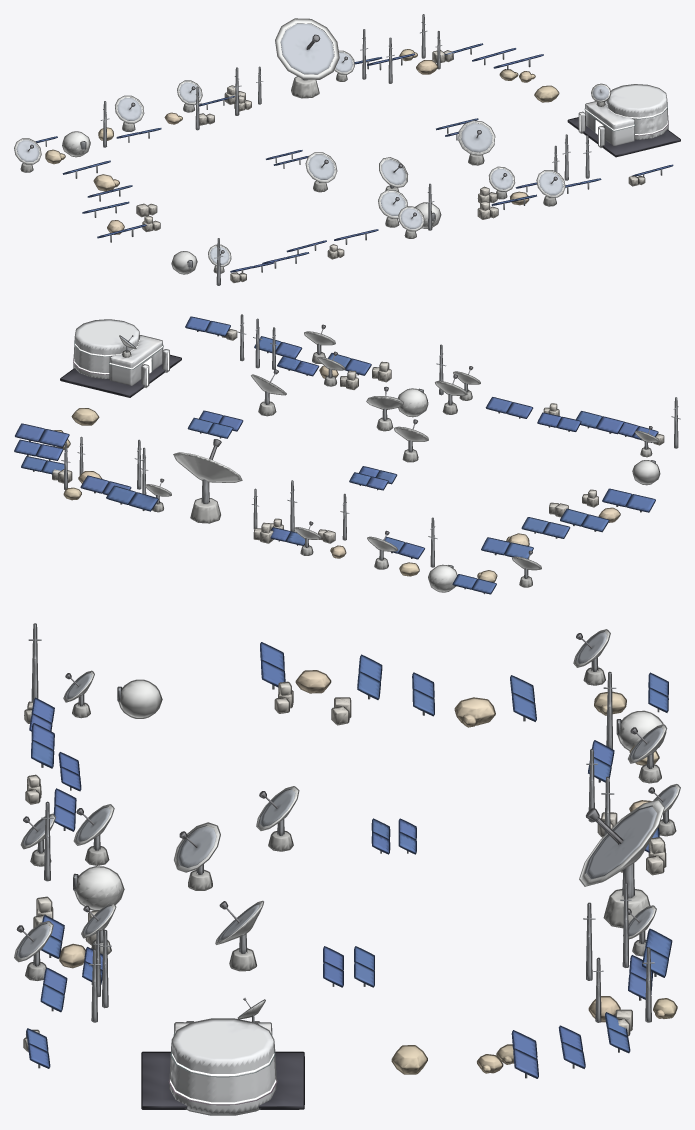
Rendered from dish_array.glb.
The picture shows the model from 3 angles, top to bottom: view 1: azimuth 30°, elevation 25°; view 2: azimuth 150°, elevation 25°; view 3: azimuth 270°, elevation 25°; orthographic projection. The views are drawn at different scales.
Parts seen in each view (by area): view 1: Baked_matte, Baked_satin, Baked_matte_Outline, Baked_gloss_Outline, Baked_metal, Baked_metal_Outline, Baked_gloss, Baked_satin_Outline; view 2: Baked_matte, Baked_gloss, Baked_matte_Outline, Baked_gloss_Outline, Baked_metal, Baked_metal_Outline, Baked_satin; view 3: Baked_matte, Baked_gloss, Baked_satin, Baked_matte_Outline, Baked_gloss_Outline, Baked_metal, Baked_metal_Outline, Baked_satin_Outline.
Boxes of the visible parts, x1=… form: Baked_matte: x1=15, y1=19, x2=667, y2=282; Baked_satin: x1=16, y1=23, x2=680, y2=264; Baked_matte_Outline: x1=14, y1=18, x2=668, y2=282; Baked_gloss_Outline: x1=35, y1=43, x2=673, y2=272; Baked_metal: x1=45, y1=15, x2=662, y2=285; Baked_metal_Outline: x1=103, y1=14, x2=589, y2=285; Baked_gloss: x1=36, y1=44, x2=672, y2=271; Baked_satin_Outline: x1=23, y1=23, x2=680, y2=258; Baked_matte: x1=53, y1=320, x2=663, y2=591; Baked_gloss: x1=15, y1=317, x2=657, y2=593; Baked_matte_Outline: x1=52, y1=319, x2=664, y2=592; Baked_gloss_Outline: x1=14, y1=316, x2=658, y2=594; Baked_metal: x1=27, y1=315, x2=680, y2=594; Baked_metal_Outline: x1=64, y1=314, x2=678, y2=577; Baked_satin: x1=61, y1=337, x2=181, y2=396; Baked_matte: x1=15, y1=630, x2=679, y2=1114; Baked_gloss: x1=27, y1=643, x2=671, y2=1077; Baked_satin: x1=17, y1=632, x2=677, y2=1108; Baked_matte_Outline: x1=14, y1=629, x2=680, y2=1115; Baked_gloss_Outline: x1=26, y1=642, x2=672, y2=1078; Baked_metal: x1=28, y1=624, x2=667, y2=1078; Baked_metal_Outline: x1=31, y1=623, x2=669, y2=1022; Baked_satin_Outline: x1=16, y1=631, x2=675, y2=1109.
Size of the model in its own units: 42.55 by 5.75 by 26.48.
